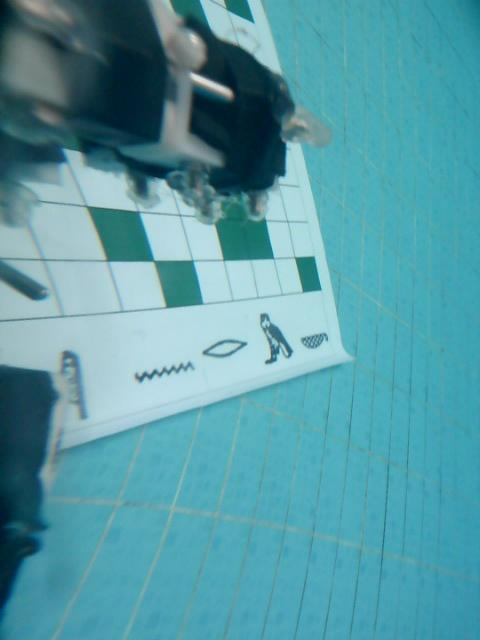Basket: (295, 329, 335, 354)
Mouth: (197, 335, 254, 365)
Owl: (255, 310, 297, 369)
Reed: (47, 338, 103, 425)
Water: (124, 361, 200, 384)
